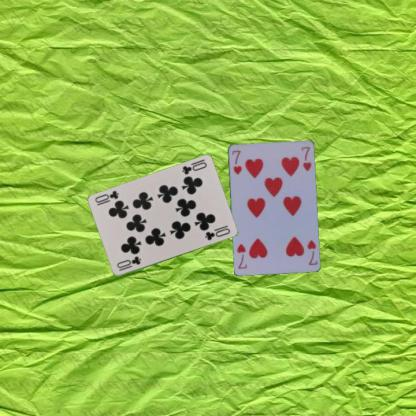10c: (114, 254, 142, 272), (179, 160, 208, 176)
7h: (229, 147, 243, 176), (304, 237, 318, 266)
